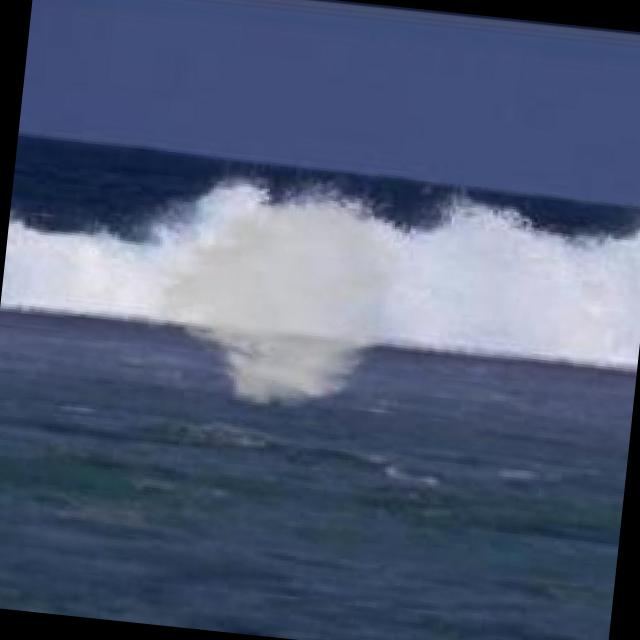Smoke: (130, 178, 413, 423)
